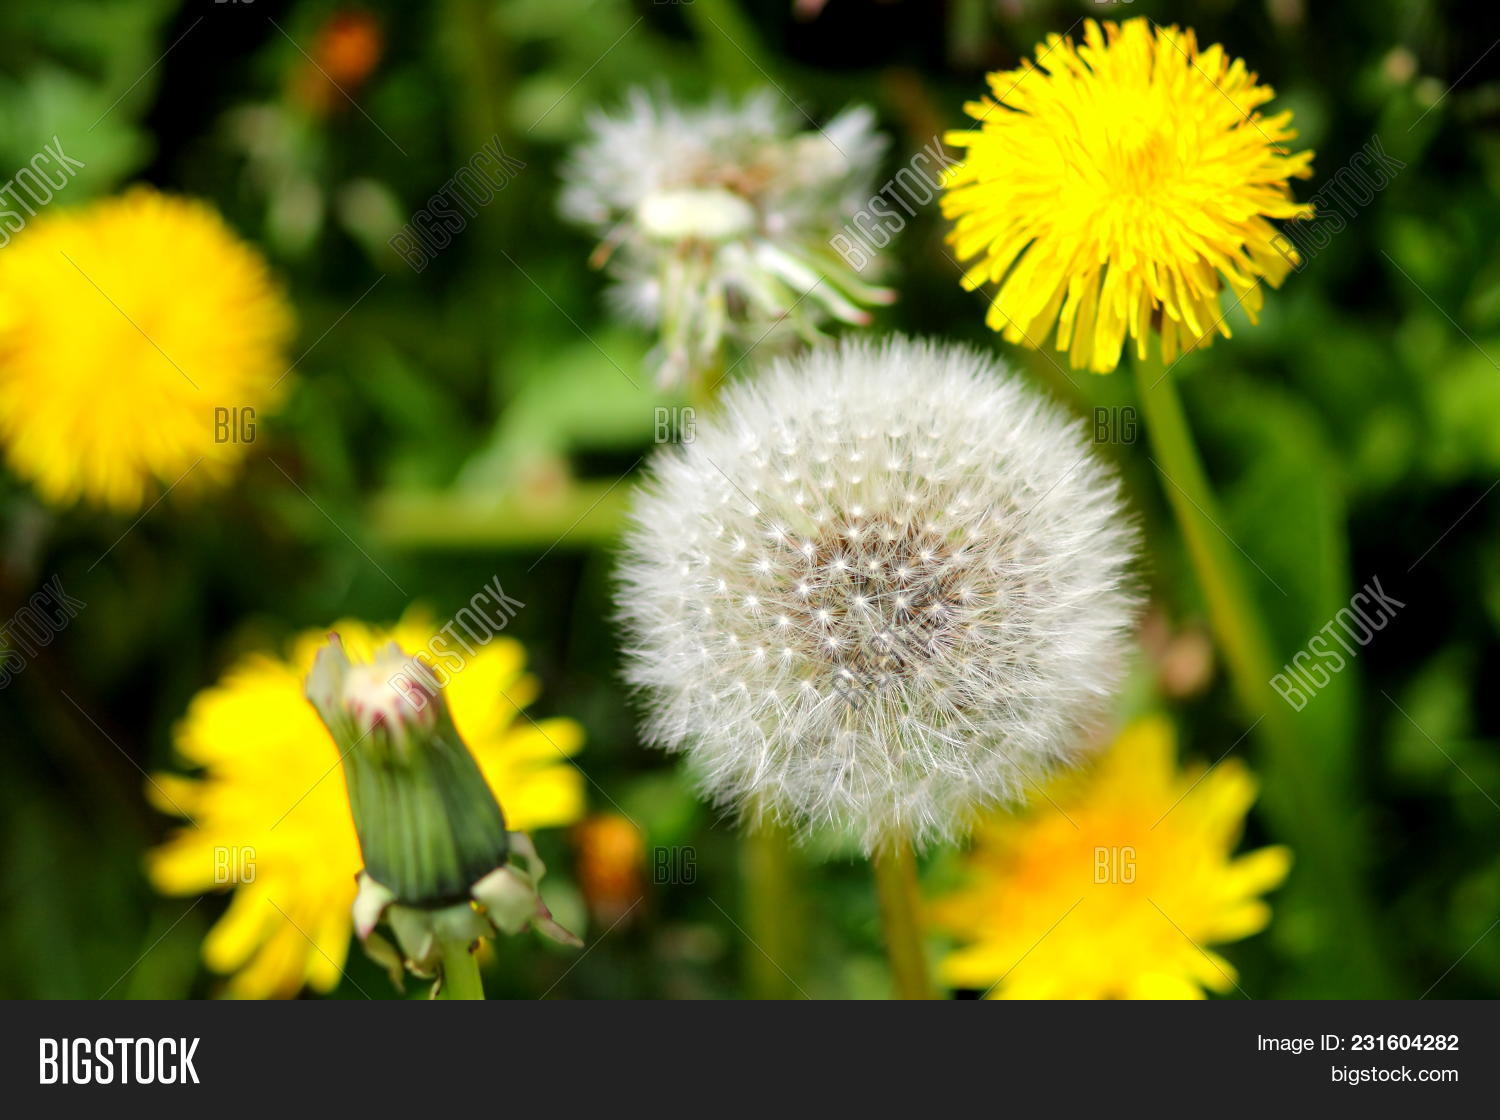dandelion: (140, 620, 604, 964), (942, 33, 1311, 364), (925, 699, 1296, 989), (6, 189, 306, 494)
